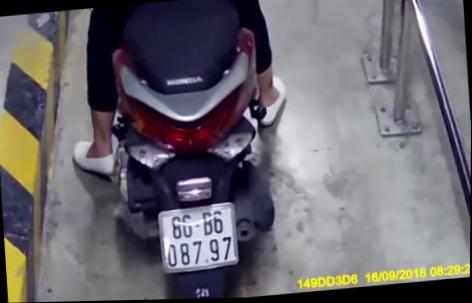LP: (157, 202, 239, 275)
